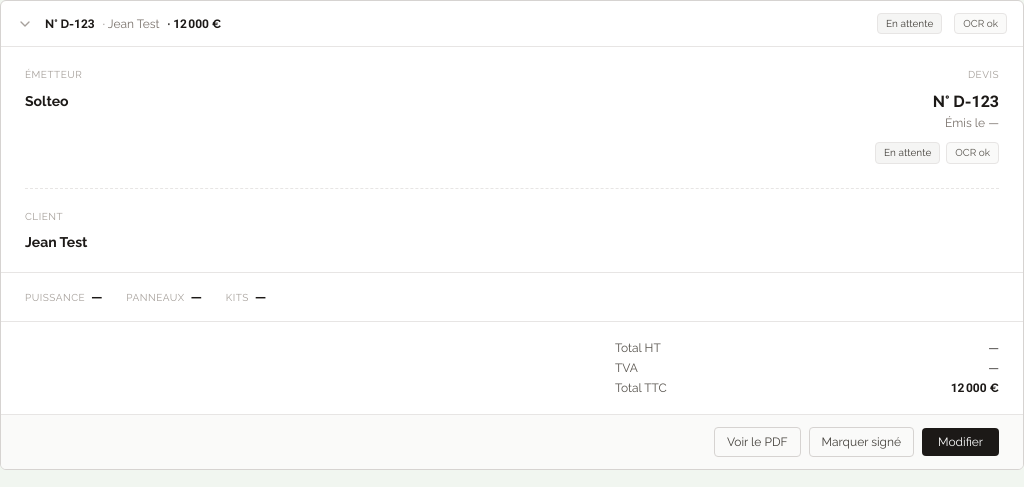
it: DevisList — états de scan › replie la carte devis : masque le corps, garde résumé (TTC) + footer
Expected: the text "Émetteur" is shown, [25,69,82,80]
Click the button named "Réduire".
click(25, 24)  # box [17,16,33,32]
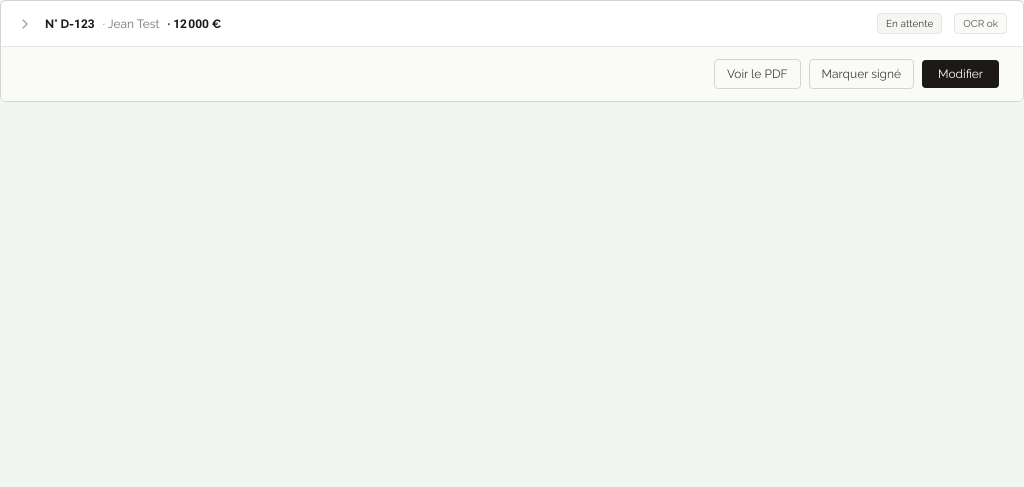
Expected: the text "N° D-123" is shown, [45,16,95,32]
Expected: the text "Émetteur" is gone
